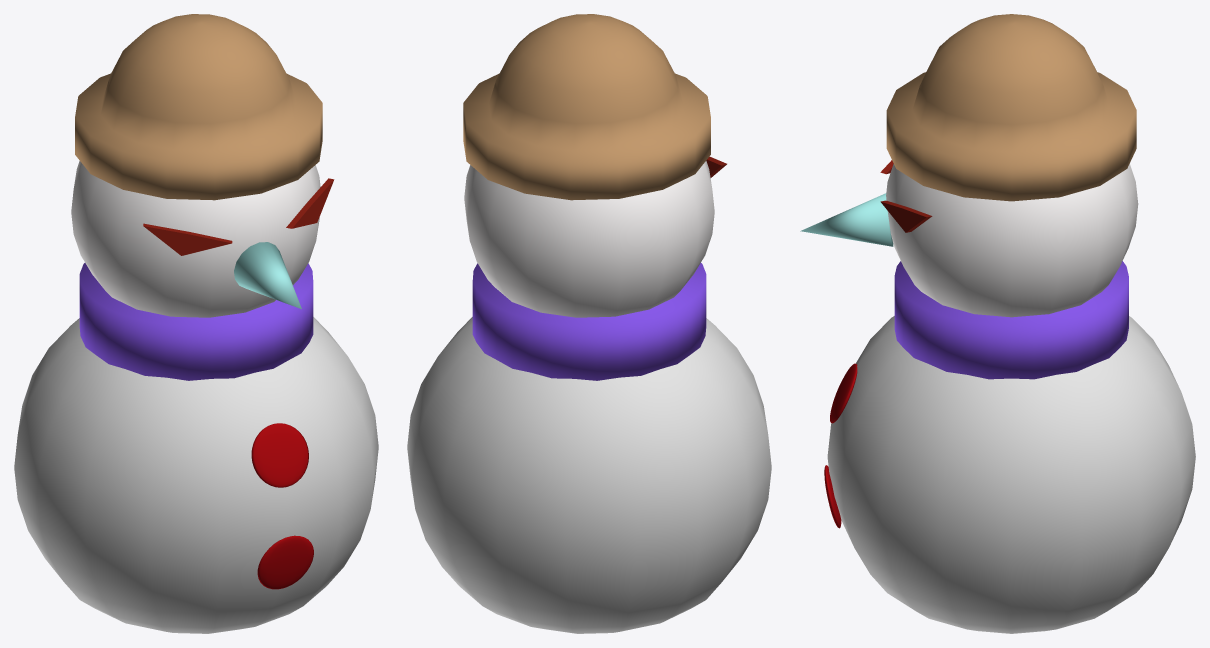
File: bosssnowman.fbx
3 renders of one model, left to right at view 1: azimuth 30°, elevation 25°; view 2: azimuth 150°, elevation 25°; view 3: azimuth 270°, elevation 25°, orthographic.
Visible parts, largest first — view 1: Cube.002; view 2: Cube.002; view 3: Cube.002.
Boxes of the visible parts, x1,y1,x2,y2 form: Cube.002: [14, 14, 378, 633]; Cube.002: [407, 14, 771, 633]; Cube.002: [800, 14, 1195, 633].
Bounding box in the file's own units: 314 × 556 × 338.
